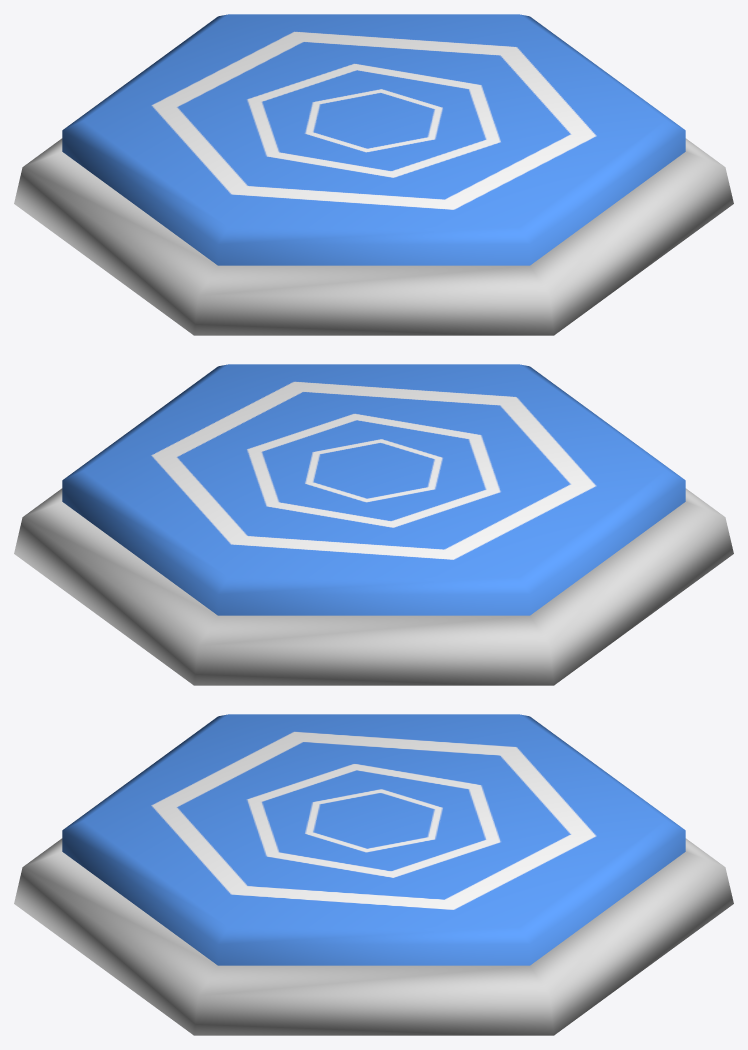
Rendered from jumppad.fbx.
The picture shows the model from 3 angles, top to bottom: view 1: azimuth 30°, elevation 25°; view 2: azimuth 150°, elevation 25°; view 3: azimuth 270°, elevation 25°; orthographic projection.
Parts seen in each view (by area): view 1: Pad, Base; view 2: Pad, Base; view 3: Pad, Base.
Boxes of the visible parts, box(x1,y1,x2,y2) form: Pad: box(62, 14, 685, 265); Base: box(14, 138, 733, 335); Pad: box(62, 364, 685, 615); Base: box(14, 488, 733, 685); Pad: box(62, 714, 685, 965); Base: box(14, 838, 733, 1035).
Bounding box in the file's own units: 162 × 23.85 × 187.
